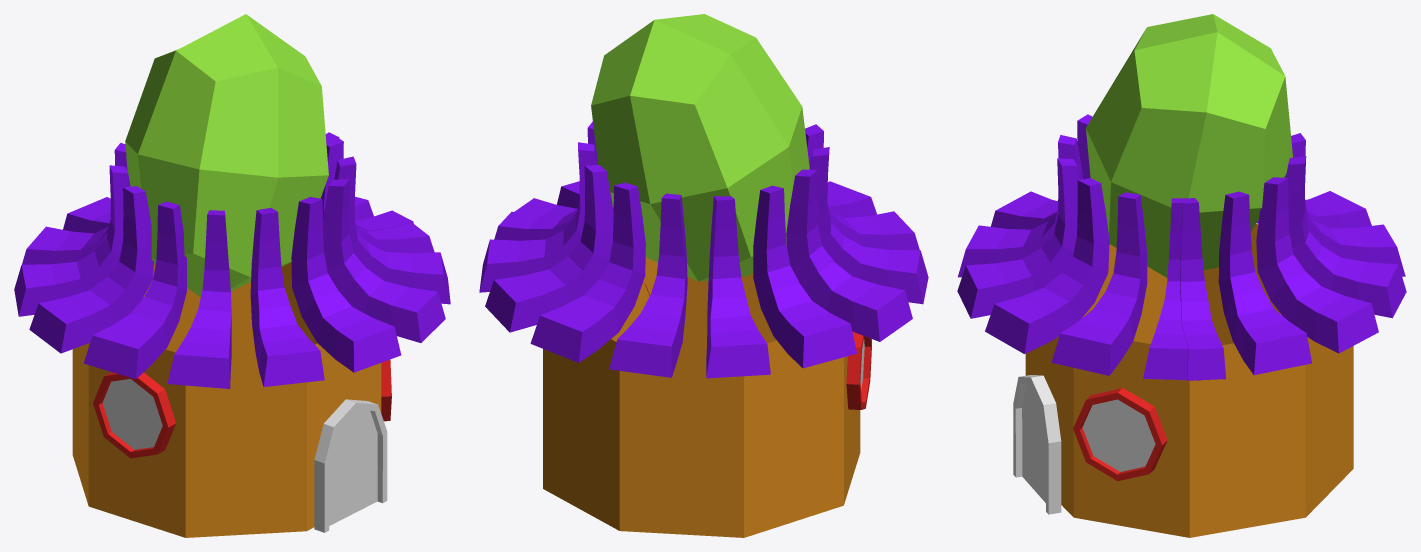
Rendered from House_001.fbx.
3 views of the same model, side by side, from view 1: azimuth 30°, elevation 25°; view 2: azimuth 150°, elevation 25°; view 3: azimuth 270°, elevation 25° (orthographic). The views are drawn at different scales.
Visible parts, largest first — view 1: Cube.003, Cylinder.002, Cube.004, Cylinder.004, Cylinder.003, Cylinder.005; view 2: Cube.003, Cylinder.002, Cube.004, Cylinder.003; view 3: Cube.003, Cylinder.002, Cube.004, Cylinder.005, Cylinder.004.
Part boxes in pixels (x1,y1,x2,y2): Cube.003: (14,132,450,388); Cylinder.002: (72,262,381,537); Cube.004: (125,14,328,297); Cylinder.004: (314,399,387,532); Cylinder.003: (93,372,176,458); Cylinder.005: (381,359,391,421); Cube.003: (479,121,928,378); Cylinder.002: (543,256,860,537); Cube.004: (591,14,809,281); Cylinder.003: (846,331,871,409); Cube.003: (957,114,1406,380); Cylinder.002: (1025,224,1353,537); Cube.004: (1086,14,1292,277); Cylinder.005: (1073,388,1167,481); Cylinder.004: (1013,375,1061,514).
Bounding box in the file's own units: 273 × 305 × 274.
